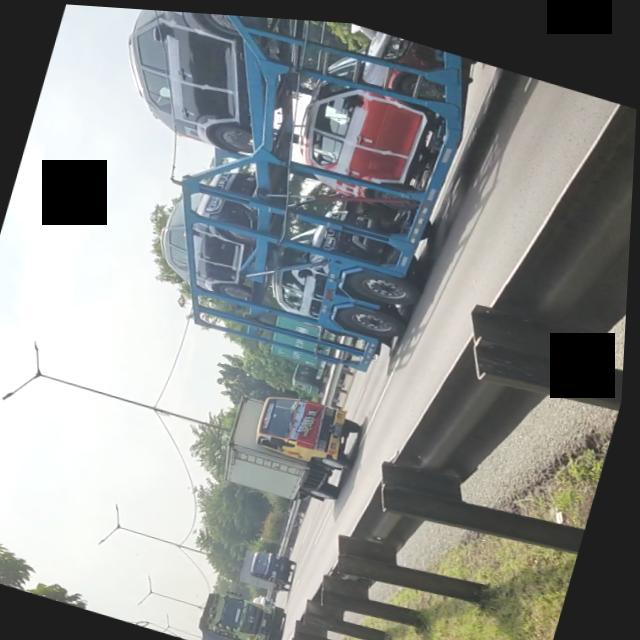Golongan II: (212, 368, 376, 516)
